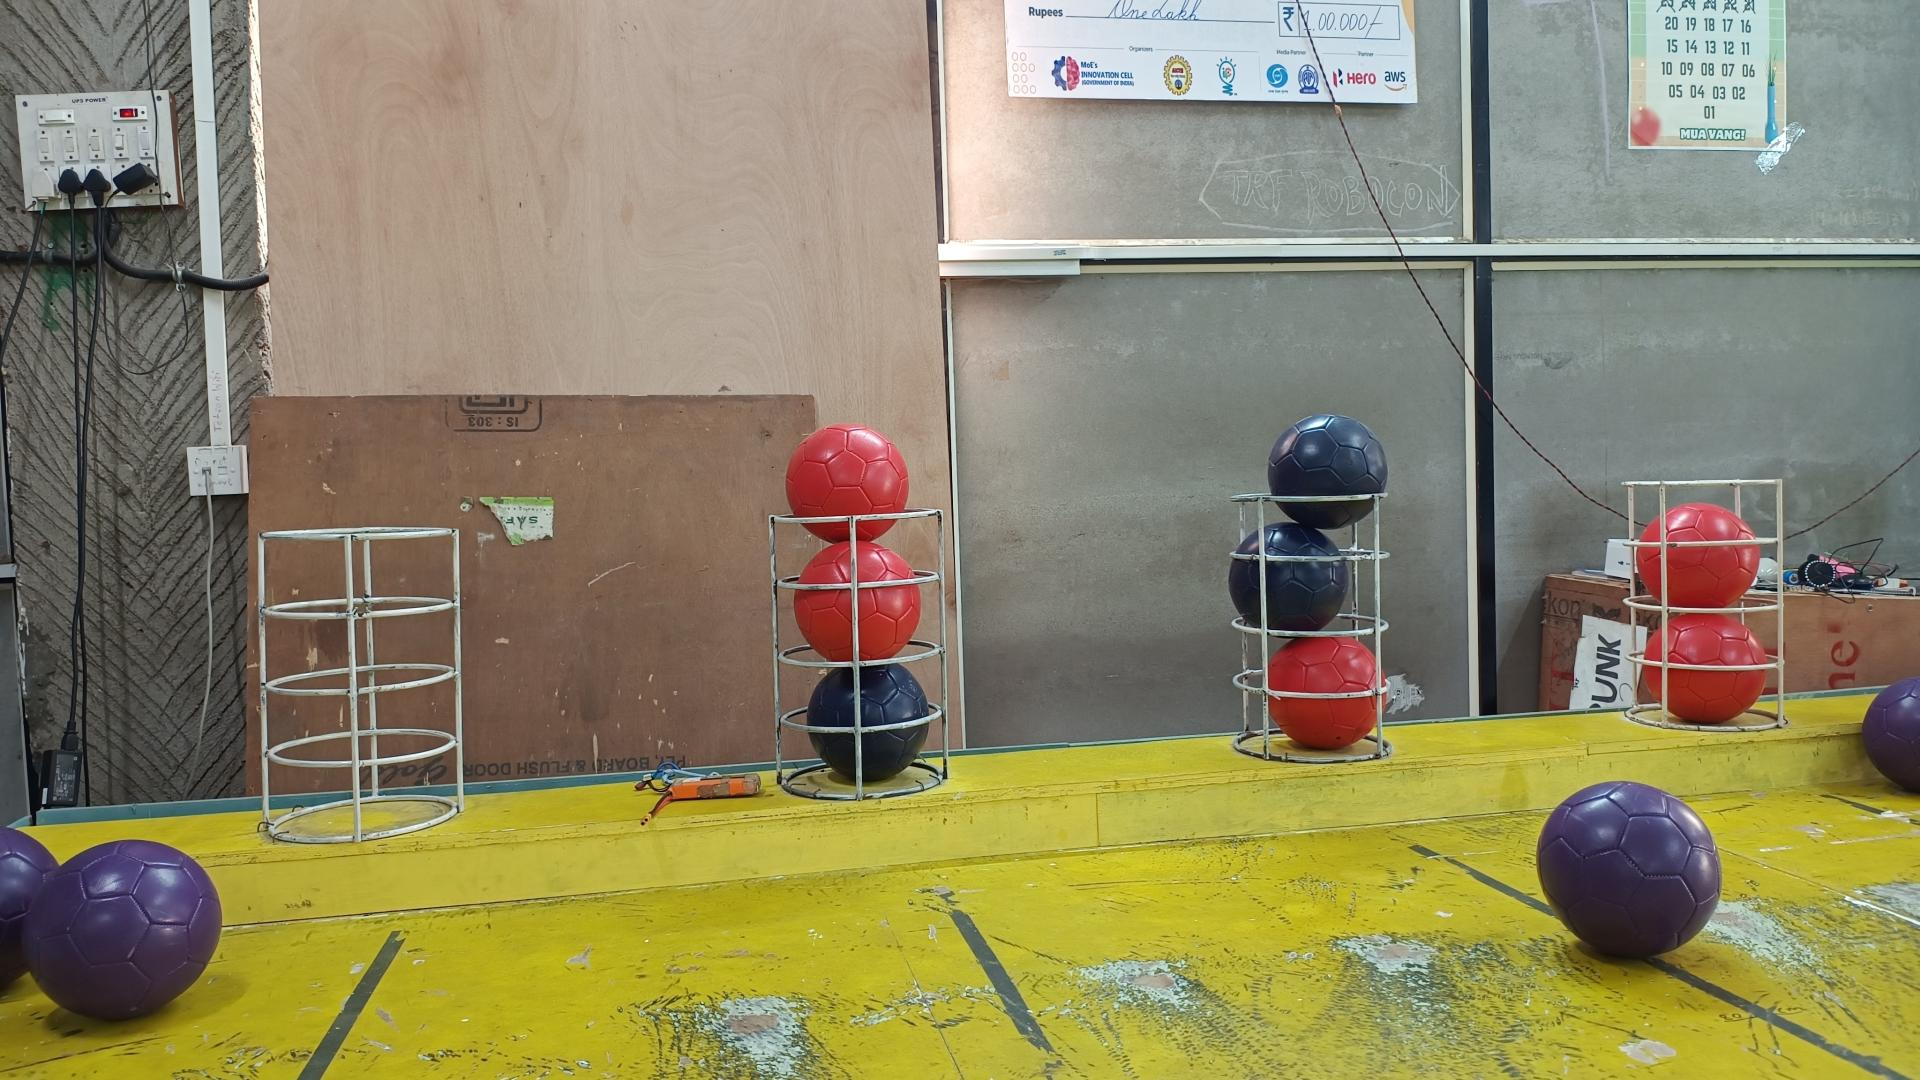dhoka: (806, 663, 930, 783), (1267, 413, 1387, 529), (1230, 521, 1350, 630)
laale: (795, 541, 923, 663), (783, 423, 907, 543), (1263, 637, 1387, 750), (1643, 615, 1766, 724), (1635, 502, 1759, 608)
